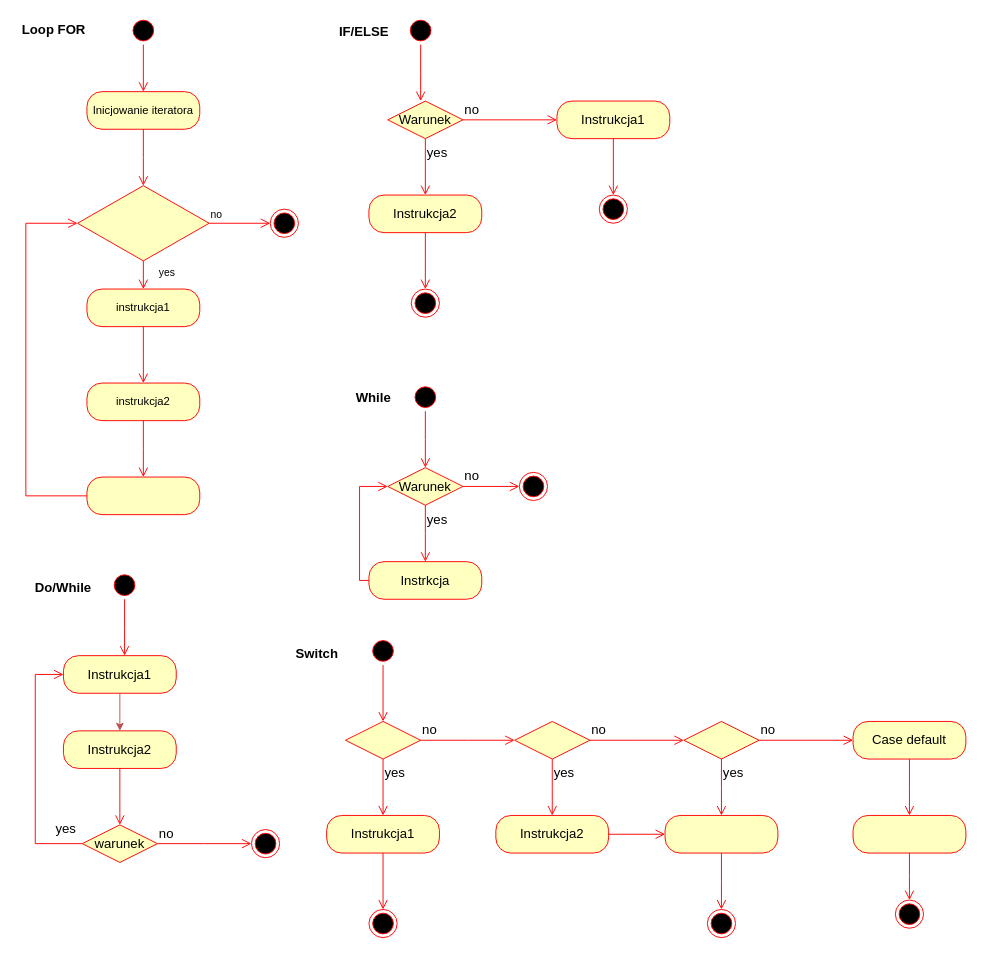
Some shapes in this 982 by 954 pixel diagram are drawn without their labels. The box of each missing label's shape, as (x1, y1, x2, y2) in pixels:
Case1: (345, 721, 421, 759)
Case2: (514, 721, 590, 759)
Case3: (683, 721, 759, 759)
Inkrementacja iteratora: (86, 476, 200, 515)
Instrukcja3: (664, 815, 778, 853)
Instrukcja4: (852, 815, 966, 853)
Sprawdzenie warunku pętli: (77, 185, 209, 261)
